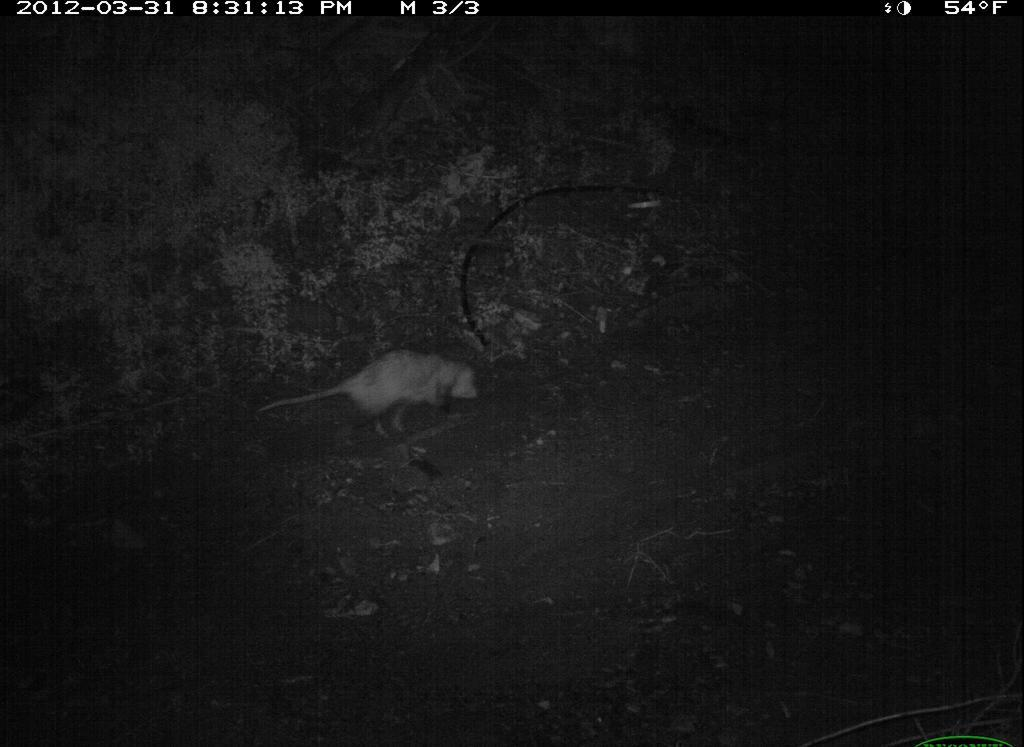opossum: (246, 337, 489, 455)
